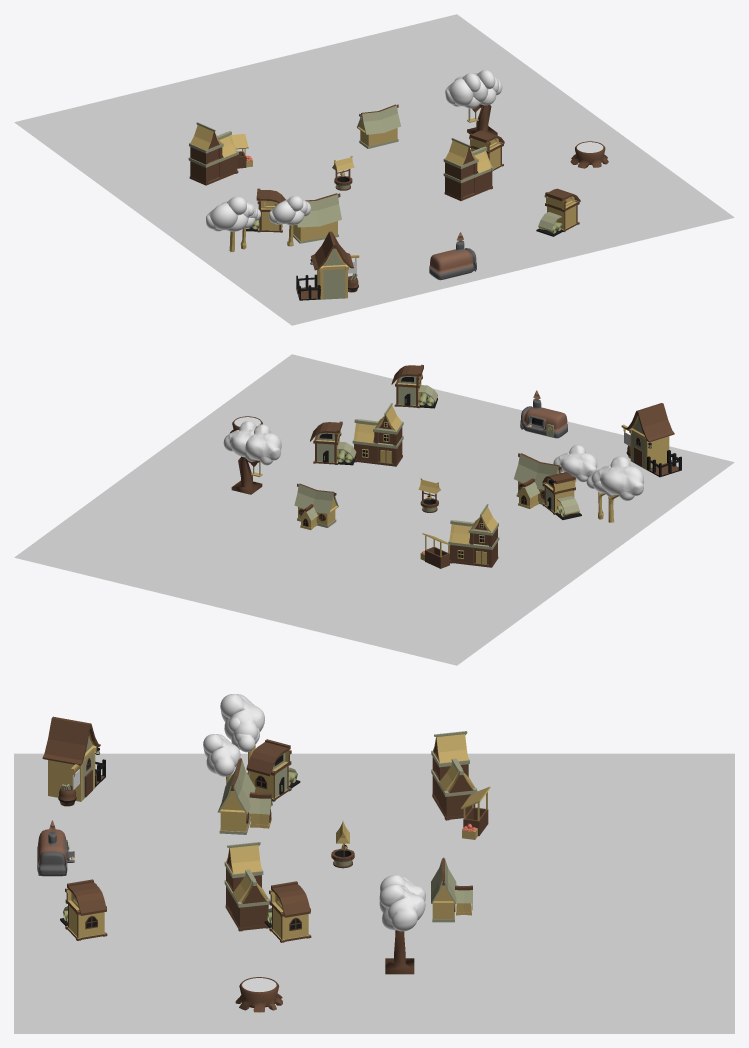
Rendered from GGJ_2026-Town.fbx.
The picture shows the model from 3 angles, top to bottom: view 1: azimuth 30°, elevation 25°; view 2: azimuth 150°, elevation 25°; view 3: azimuth 270°, elevation 25°; orthographic projection. The views are drawn at different scales.
Parts seen in each view (by area): view 1: Plane.006, Cube.039, Cube.026, Cube.027, Cube.044, Cube.022, Cube.024, Cube.032, Cylinder.033, Sphere.014, Cube.023, Sphere.012 (+3 smaller); view 2: Plane.006, Cube.039, Cube.044, Cube.027, Cube.026, Cube.022, Cube.032, Sphere.014, Cube.024, Cube.021, Cube.023, Cylinder.033 (+3 smaller); view 3: Plane.006, Cube.039, Cube.026, Cube.027, Cube.044, Cube.022, Cube.023, Cube.024, Cube.021, Cube.032, Cylinder.033, Sphere.014 (+4 smaller).
Boxes of the visible parts, x1,y1,x2,y2 form: Plane.006: (14, 14, 734, 325); Cube.039: (296, 231, 359, 300); Cube.026: (443, 138, 493, 200); Cube.027: (188, 122, 238, 185); Cube.044: (445, 70, 502, 135); Cube.022: (293, 193, 341, 243); Cube.024: (536, 188, 580, 236); Cube.032: (357, 104, 400, 148); Cylinder.033: (429, 232, 476, 280); Sphere.014: (206, 196, 255, 231); Cube.023: (246, 188, 285, 232); Sphere.012: (268, 196, 311, 225); Plane.006: (14, 354, 734, 665); Cube.039: (621, 403, 681, 477); Cube.044: (223, 421, 281, 494); Cube.027: (448, 504, 499, 567); Cube.026: (352, 403, 403, 466); Cube.022: (514, 453, 561, 508); Cube.032: (294, 483, 338, 529); Sphere.014: (591, 456, 643, 500); Cube.024: (391, 364, 437, 408); Cube.021: (310, 421, 356, 465); Cube.023: (542, 472, 581, 519); Cylinder.033: (520, 390, 567, 438); Plane.006: (14, 753, 734, 1033); Cube.039: (42, 716, 105, 806); Cube.026: (224, 842, 270, 931); Cube.027: (431, 731, 477, 820); Cube.044: (379, 875, 425, 974); Cube.022: (217, 758, 272, 834); Cube.023: (246, 739, 300, 801); Cube.024: (60, 879, 107, 940); Cube.021: (264, 881, 311, 942); Cube.032: (431, 857, 472, 922); Cylinder.033: (37, 820, 74, 876); Sphere.014: (220, 694, 264, 739).
Bounding box in the file's own units: 36.91 × 40.11 × 6.11.
